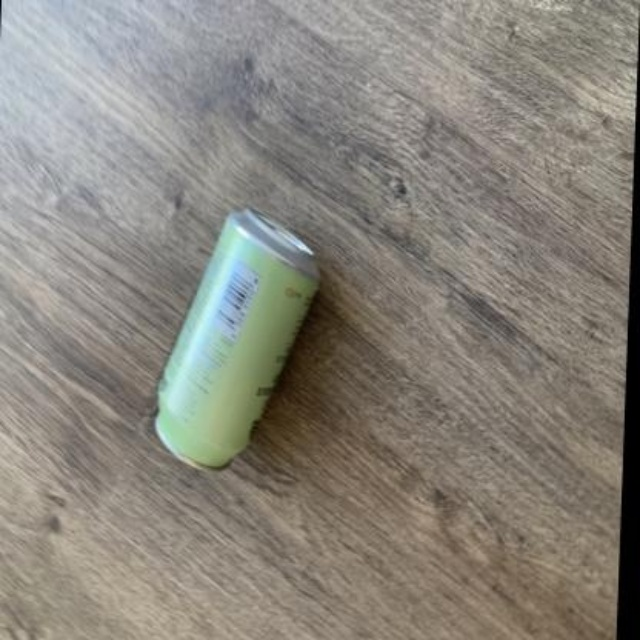trash: (155, 209, 317, 466)
